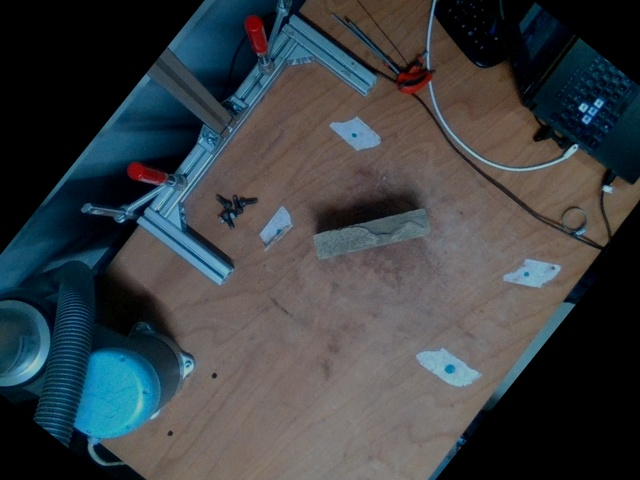brick-side: (315, 210, 425, 259)
